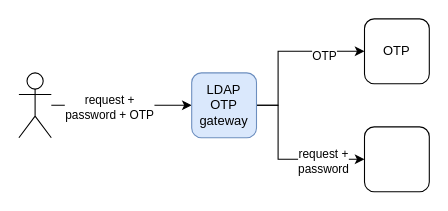
Image size: 448x211. Some labels were removed from this diagram. The shapes that lost their labels are listed below. From the top down, each one's centre as x and y in pixels, then its label:
At point 34,105: "User".
At point 396,159: "LDAP".
